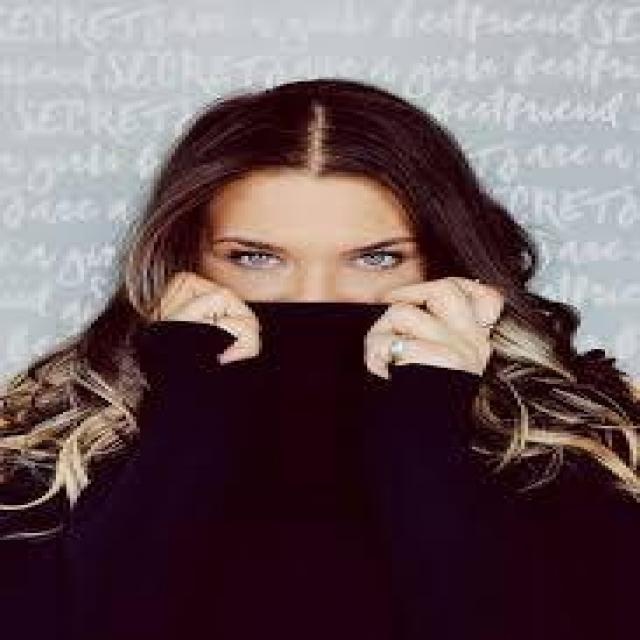person: (11, 77, 630, 638)
